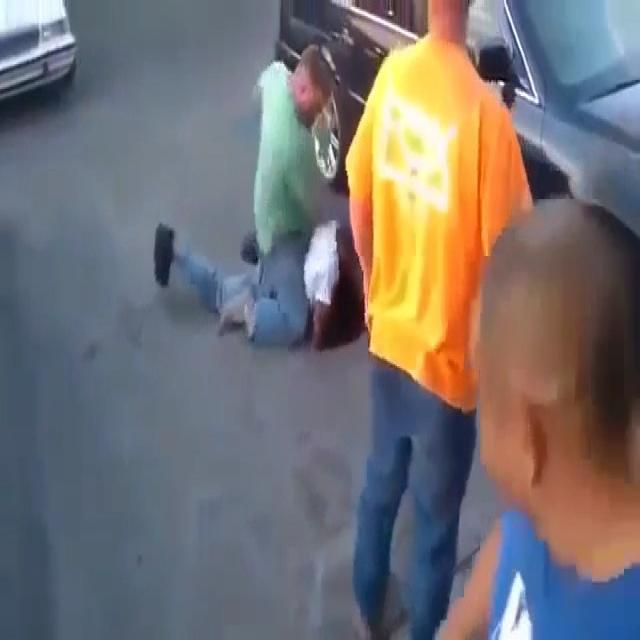non-violence: (349, 4, 533, 640), (440, 200, 640, 640)
violence: (156, 42, 362, 350)
